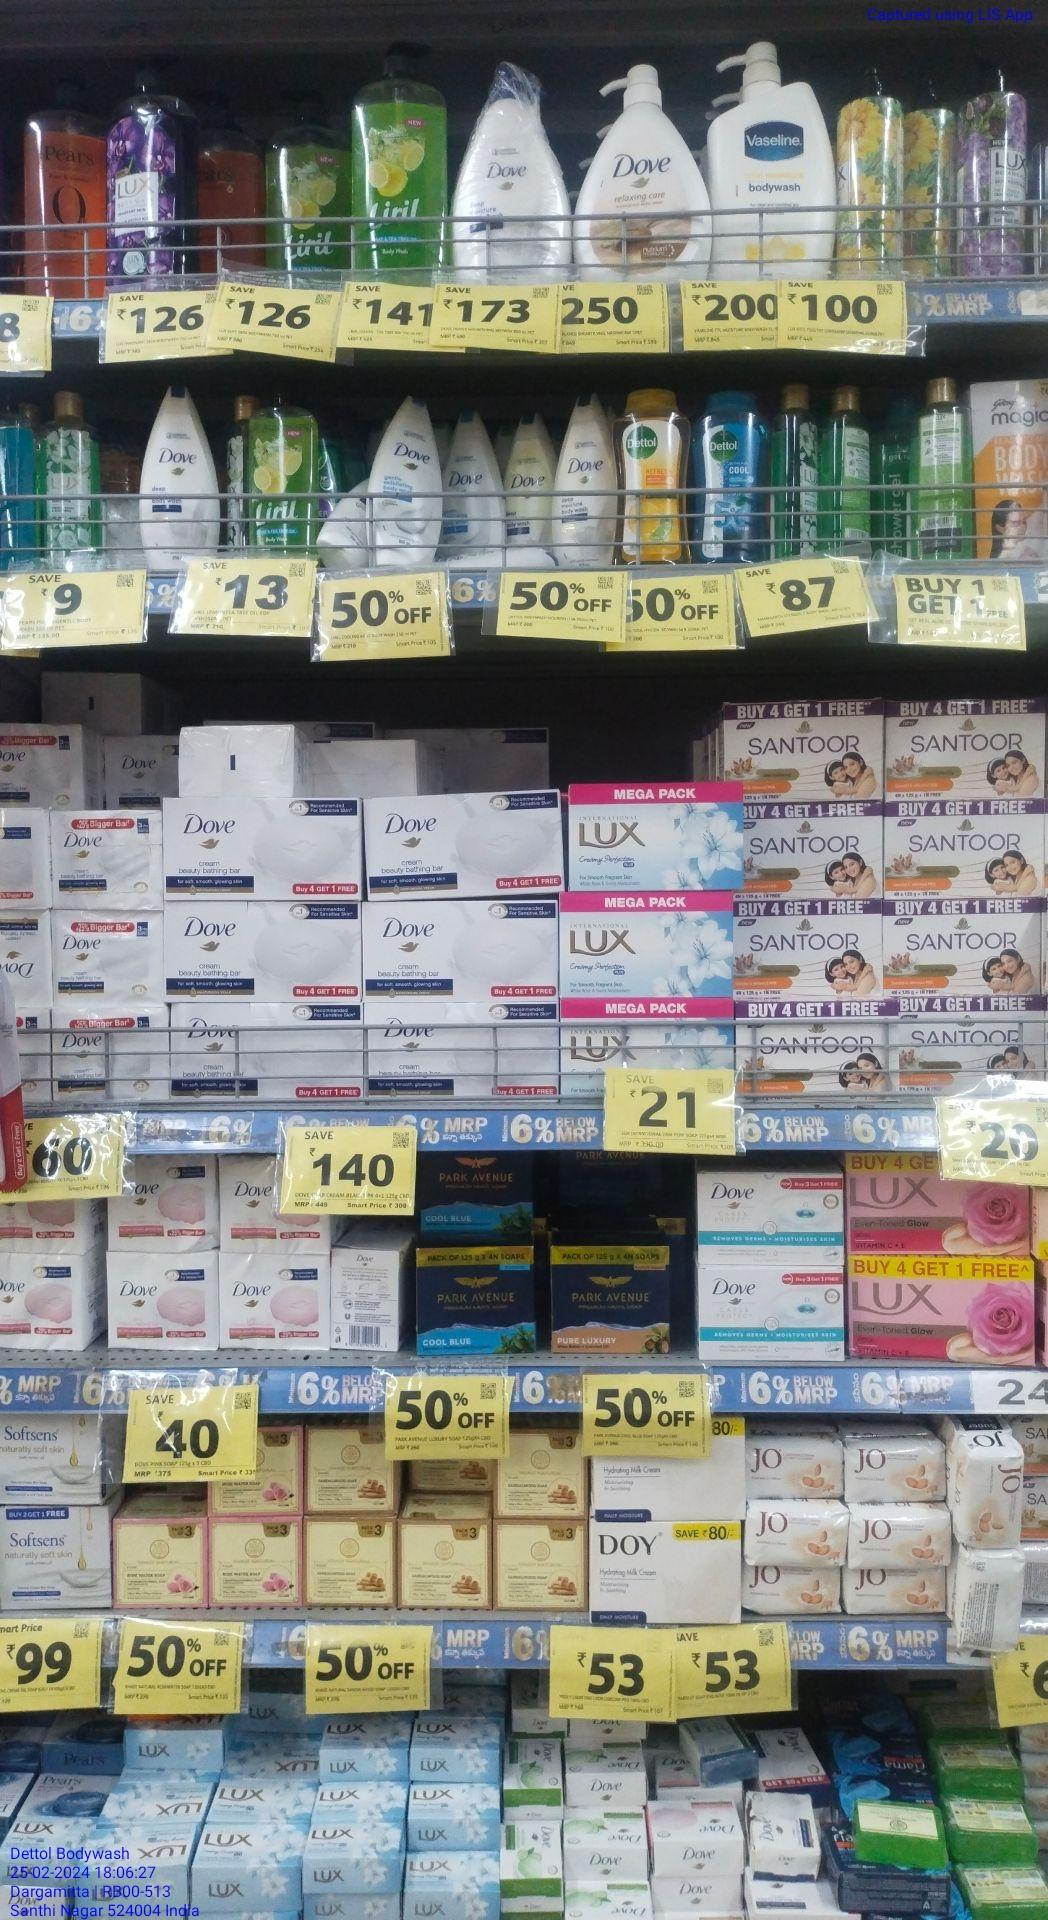Dettol_Bodywash_Cool: (698, 391, 761, 563)
Dettol_Bodywash_Refresh: (620, 388, 689, 564)
Dove_Deep_Moisture_Body_Wash_250ML: (138, 383, 222, 566), (551, 394, 614, 569)
Lux_Body_Wash_Skin_Detox_Freesia_Scent_and_Alove_Vera_245ML: (37, 390, 106, 572), (769, 383, 822, 559)
